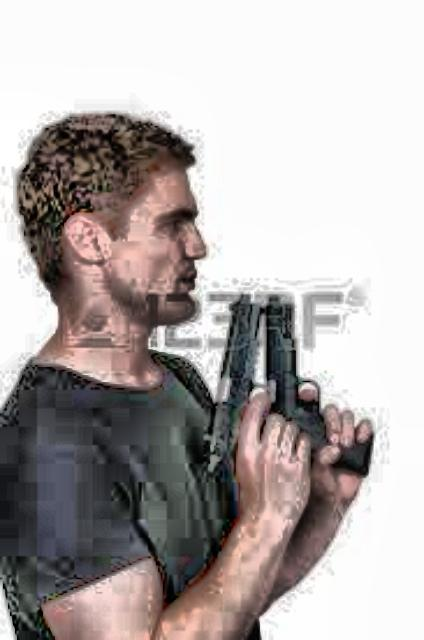pistol: (260, 295, 370, 475), (198, 292, 266, 476)
